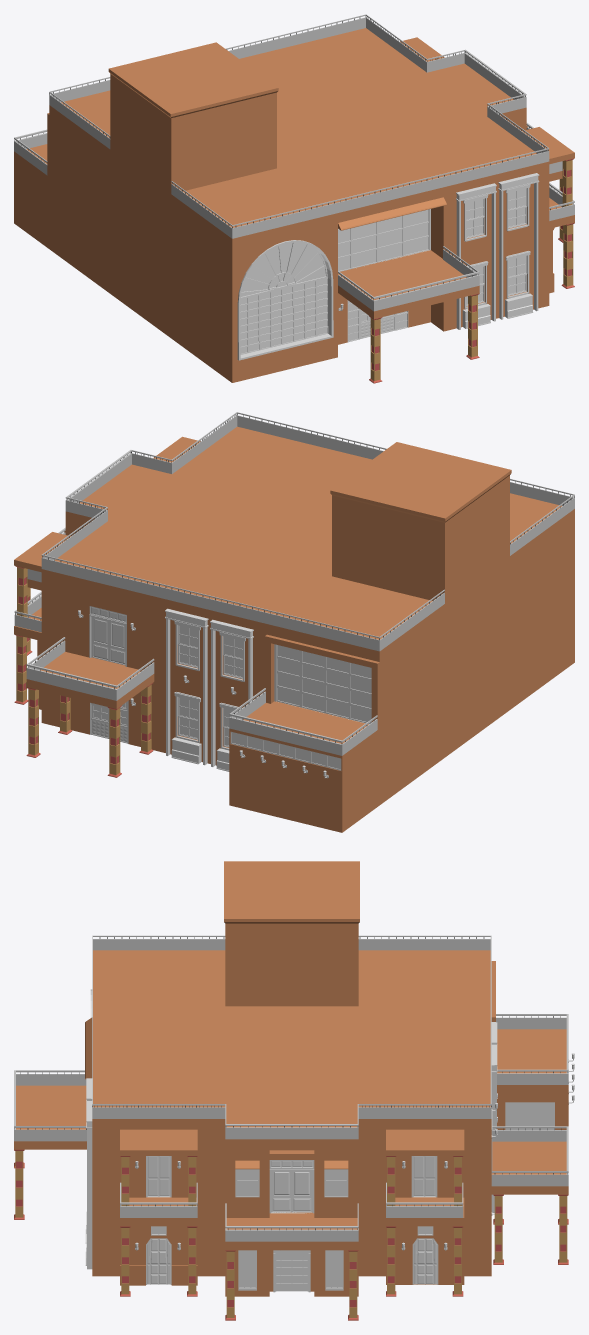
The model's file is Residence.fbx.
3 renders of one model, top to bottom at view 1: azimuth 30°, elevation 25°; view 2: azimuth 150°, elevation 25°; view 3: azimuth 270°, elevation 25°, orthographic. The views are drawn at different scales.
Visible parts, largest first — view 1: FirstFloor, GroundFloor, RoofBalconie, BigWindow, SlidingDoor, BigWindowWall, WindowSection, Balcony.004, WindowDetail, SideDoor, Windows, WindowExt (+7 smaller); view 2: FirstFloor, GroundFloor, RoofBalconie, LargeWindow, DoorSection.001, WindowSection.001, Balcony, Windows.002, Balcony.005, WindowSection.002, SideDoor.002, Windows.001 (+10 smaller); view 3: FirstFloor, GroundFloor, RoofBalconie, Window.003, Window.004, Door.001, Door.002, FrontBalconyDoor, Balcony.005, Balcony, Balcony.004, Balcony.001 (+18 smaller).
Part boxes in pixels (left/top/right/bottom): FirstFloor: left=47, top=28, right=574, bottom=310; GroundFloor: left=14, top=144, right=574, bottom=382; RoofBalconie: left=49, top=14, right=549, bottom=238; BigWindow: left=237, top=230, right=333, bottom=360; SlidingDoor: left=338, top=209, right=430, bottom=271; BigWindowWall: left=232, top=228, right=337, bottom=382; WindowSection: left=443, top=177, right=549, bottom=256; Balcony.004: left=338, top=246, right=479, bottom=311; WindowDetail: left=462, top=251, right=533, bottom=328; SideDoor: left=338, top=293, right=430, bottom=344; Windows: left=463, top=184, right=530, bottom=241; WindowExt: left=498, top=173, right=539, bottom=319; FirstFloor: left=14, top=426, right=574, bottom=729; GroundFloor: left=14, top=579, right=574, bottom=832; RoofBalconie: left=41, top=412, right=574, bottom=651; LargeWindow: left=274, top=644, right=371, bottom=724; DoorSection.001: left=41, top=585, right=154, bottom=670; WindowSection.001: left=154, top=613, right=264, bottom=697; Balcony: left=229, top=688, right=377, bottom=755; Windows.002: left=171, top=692, right=241, bottom=771; Balcony.005: left=26, top=637, right=154, bottom=700; WindowSection.002: left=154, top=681, right=246, bottom=765; SideDoor.002: left=89, top=597, right=126, bottom=666; Windows.001: left=174, top=621, right=245, bottom=681; FirstFloor: left=85, top=861, right=495, bottom=1197; GroundFloor: left=14, top=1029, right=568, bottom=1296; RoofBalconie: left=92, top=935, right=491, bottom=1139; Window.003: left=314, top=1156, right=358, bottom=1217; Window.004: left=225, top=1156, right=269, bottom=1217; Door.001: left=120, top=1156, right=197, bottom=1197; Door.002: left=386, top=1156, right=464, bottom=1197; FrontBalconyDoor: left=269, top=1159, right=314, bottom=1213; Balcony.005: left=491, top=1126, right=568, bottom=1186; Balcony: left=496, top=1014, right=568, bottom=1084; Balcony.004: left=14, top=1070, right=86, bottom=1141; Balcony.001: left=225, top=1203, right=358, bottom=1241.
Bounding box in the file's own units: 1257 × 674 × 1395.
